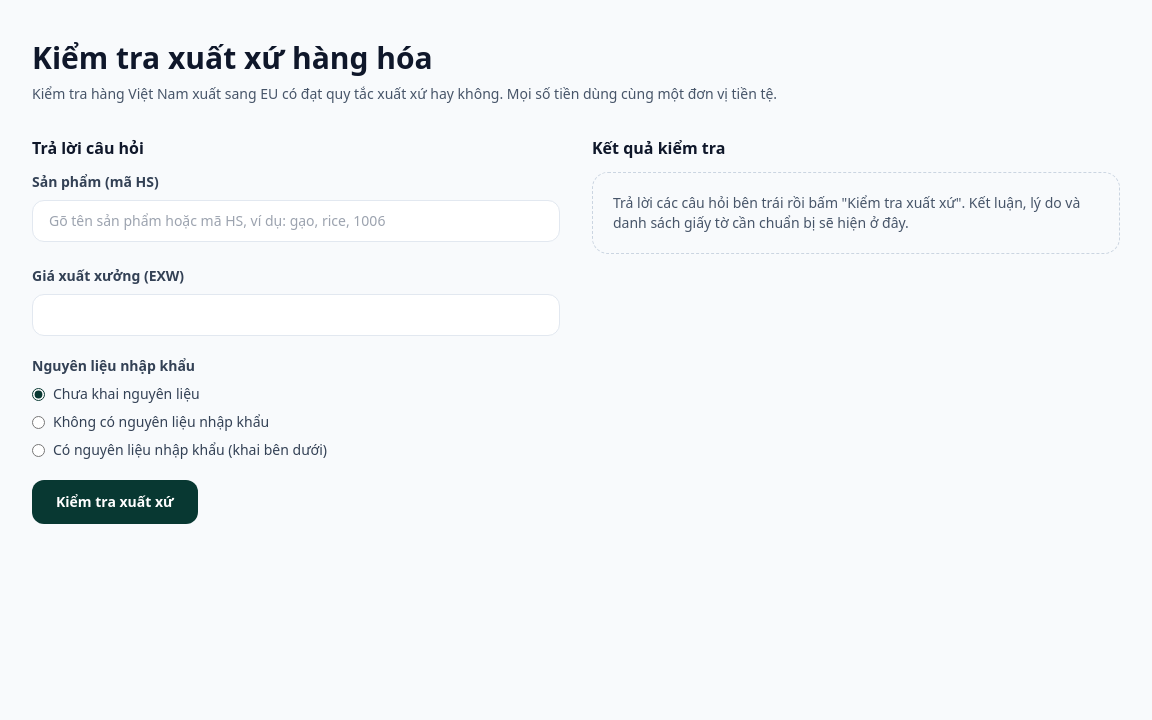
Test case: Máy tính xuất xứ có hướng dẫn (20 mã Chương 3/7/8) › REVIEWED thì kết quả không có dòng lưu ý
In the dropdown labelled "Sản phẩm (mã HS)": (296, 221) [32, 200, 560, 242], type "tom"
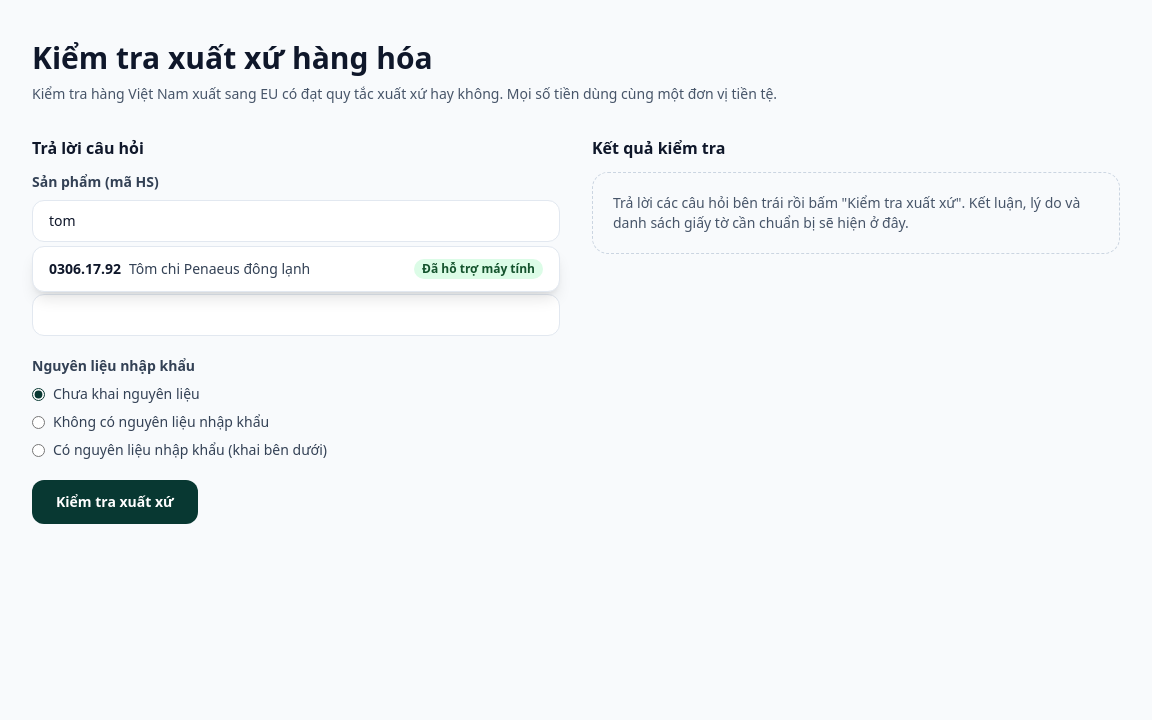
Click the option "0306.17.92Tôm chi Penaeus đông lạnh Đã hỗ trợ máy tính": (296, 269) [49, 259, 543, 279]
(page scrolled)
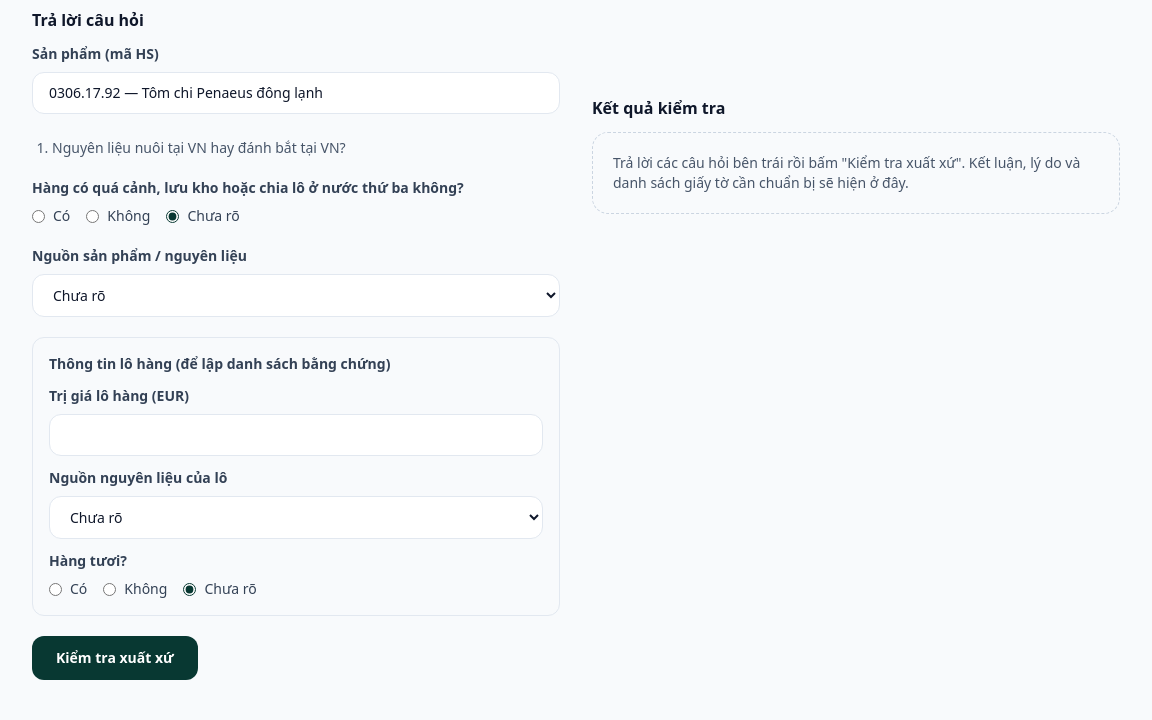
Check: the element with test id "origin-guided" is shown, box [32, 138, 560, 680]
Click the button "Kiểm tra xuất xứ": (115, 658) [32, 636, 198, 680]
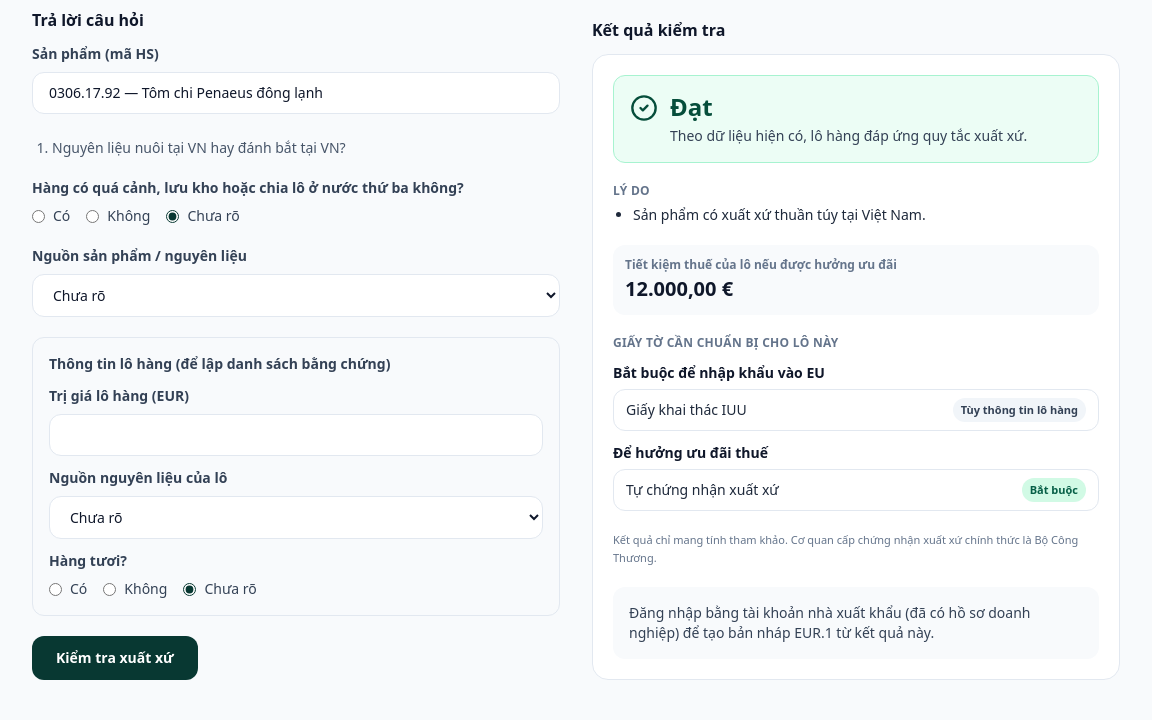
Check: the element named "Kết quả" is shown, box [592, 54, 1120, 680]
